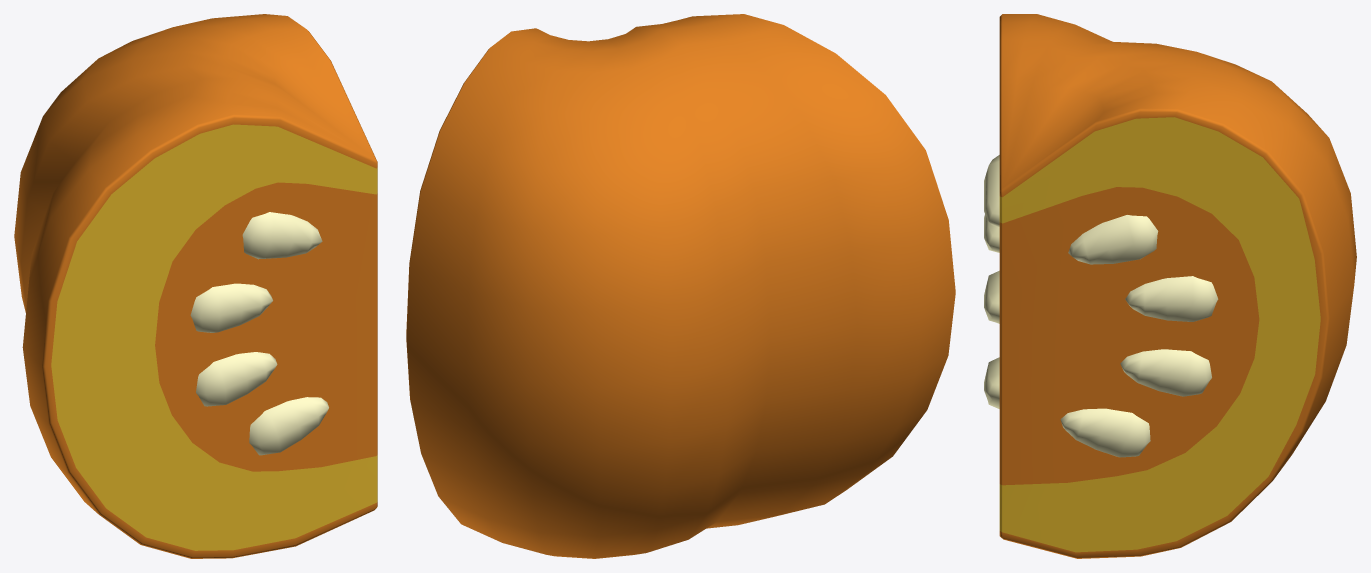
Rendered from Pumpkin_Quarter.fbx.
The picture shows the model from 3 angles, left to right: view 1: azimuth 30°, elevation 25°; view 2: azimuth 150°, elevation 25°; view 3: azimuth 270°, elevation 25°; orthographic projection. The views are drawn at different scales.
Visible parts, largest first — view 1: Pumpkin_Quarter; view 2: Pumpkin_Quarter; view 3: Pumpkin_Quarter.
Part boxes in pixels (<box>): Pumpkin_Quarter: <box>14,14,377,558</box>; Pumpkin_Quarter: <box>406,14,955,558</box>; Pumpkin_Quarter: <box>984,14,1356,558</box>.
Size of the model in its own units: 16.99 by 21.01 by 15.68.
